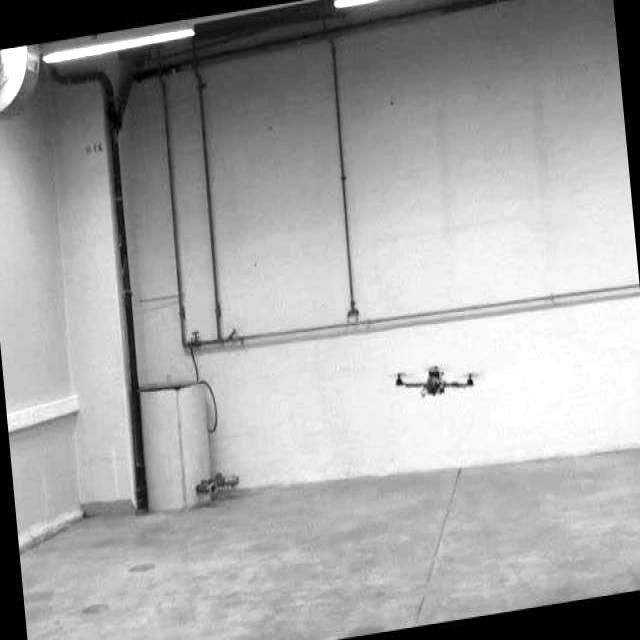drone: (390, 350, 483, 409)
